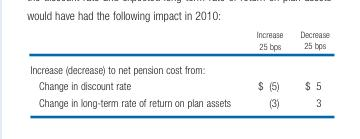table: (29, 28, 328, 107)
table column: (29, 28, 243, 107), (243, 28, 290, 107), (290, 28, 328, 107)
table column header: (29, 28, 328, 56)
table projected row header: (29, 56, 328, 77)
table row: (29, 28, 328, 56), (29, 56, 328, 77), (29, 77, 328, 93), (29, 93, 328, 107)
